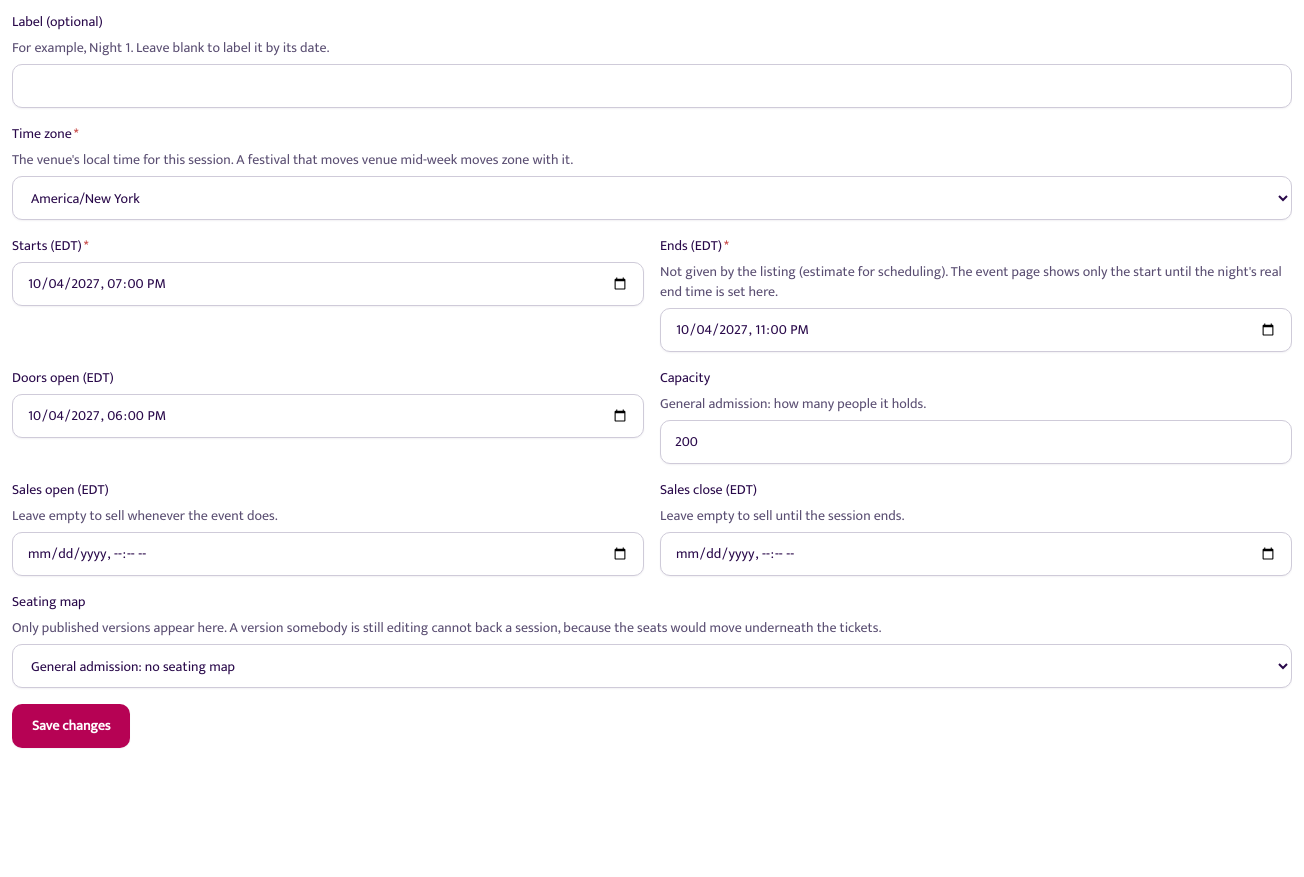
it: an end time the listing did not give › labels the end field as an estimate until the end is changed
expect the text "Not given by the listing (estimate for scheduling). The event page shows only the start until the night's real end time " is shown: met, box [660,260,1282,303]
Replace the text in the field with id "night-endsAt" with "2027-10-05T01:30". click: [976, 330]
box: [660,308,1292,352]
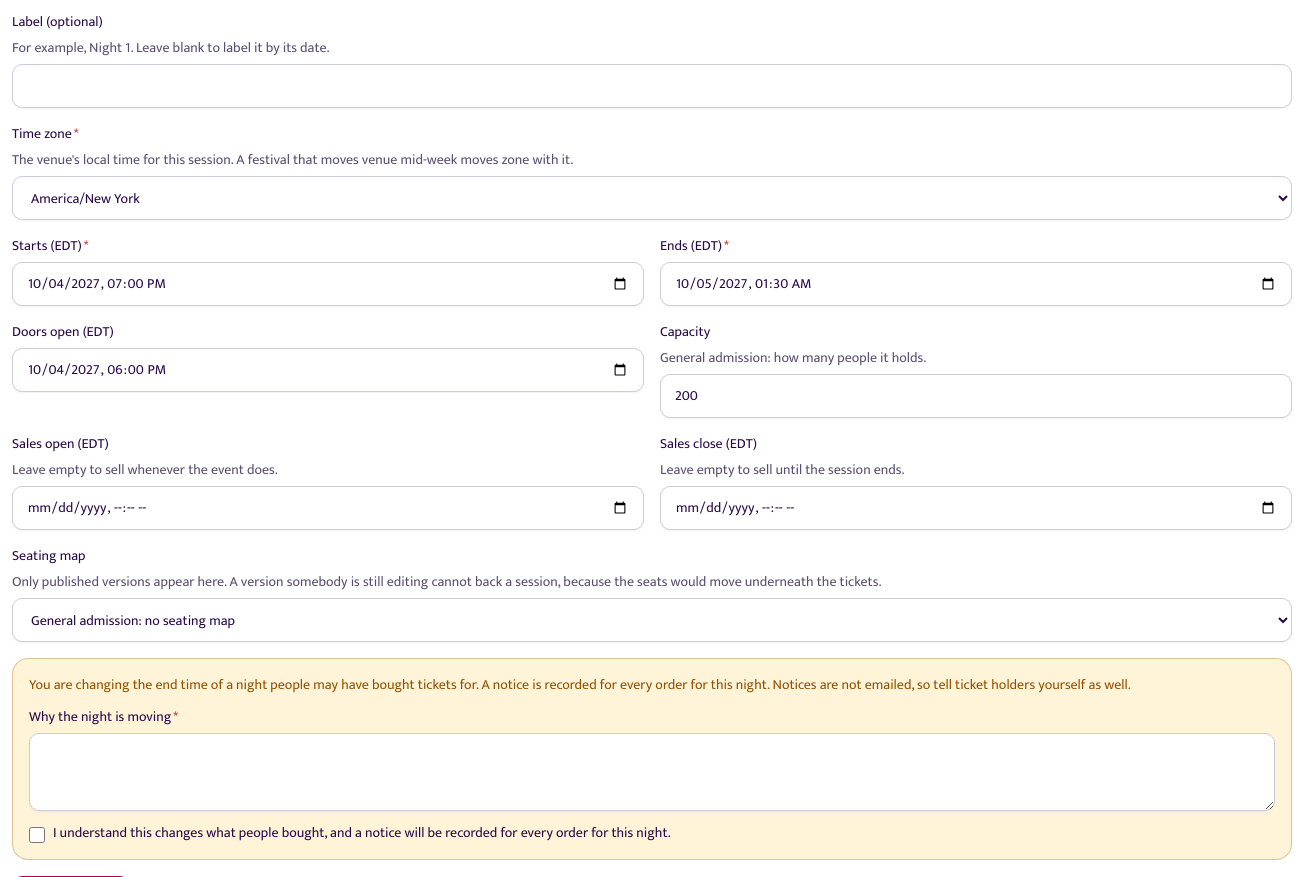
expect the text "Not given by the listing (estimate for scheduling). The event page shows only the start until the night's real end time " is gone: met
